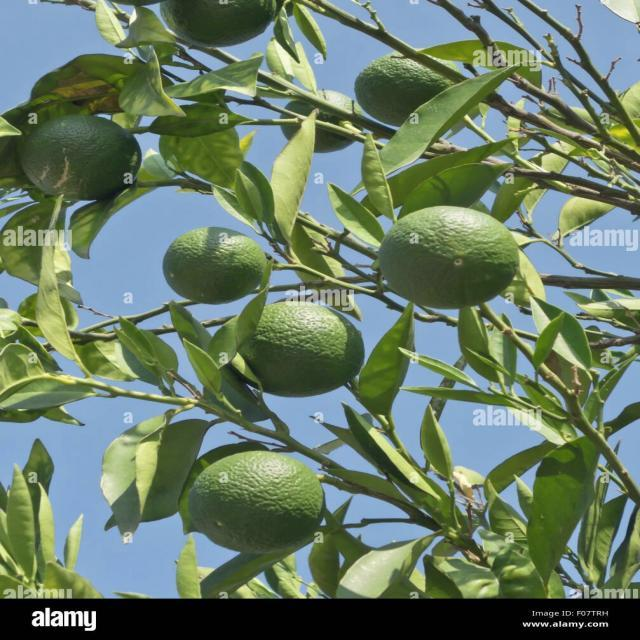Jeruk Sudah Matang: (374, 202, 526, 314), (186, 448, 330, 558), (235, 299, 365, 402), (162, 224, 272, 304)
